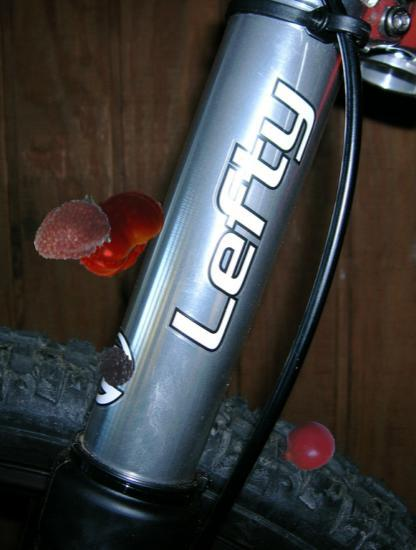Mulberry: (95, 339, 148, 392)
Pomegranate: (276, 417, 336, 477)
Strawberry: (32, 192, 111, 271)
Tomato: (69, 182, 170, 283)
